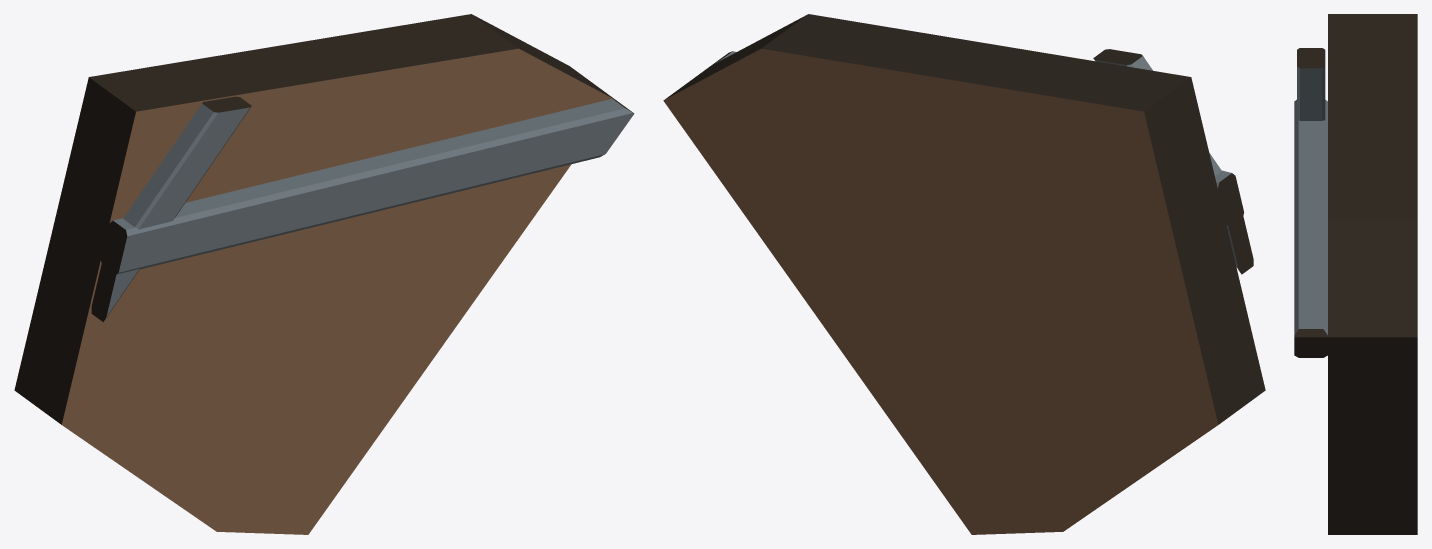
The model's file is SM_DoorShard_03_42.fbx.
3 renders of one model, left to right at view 1: azimuth 30°, elevation 25°; view 2: azimuth 150°, elevation 25°; view 3: azimuth 270°, elevation 25°, orthographic. The views are drawn at different scales.
Parts seen in each view (by area): view 1: SM_DoorShard_03_42; view 2: SM_DoorShard_03_42; view 3: SM_DoorShard_03_42.
Boxes of the visible parts, x1=… form: SM_DoorShard_03_42: x1=14, y1=14, x2=634, y2=534; SM_DoorShard_03_42: x1=663, y1=14, x2=1265, y2=534; SM_DoorShard_03_42: x1=1294, y1=14, x2=1417, y2=534.
Bounding box in the file's own units: 108 × 22 × 86.87.
